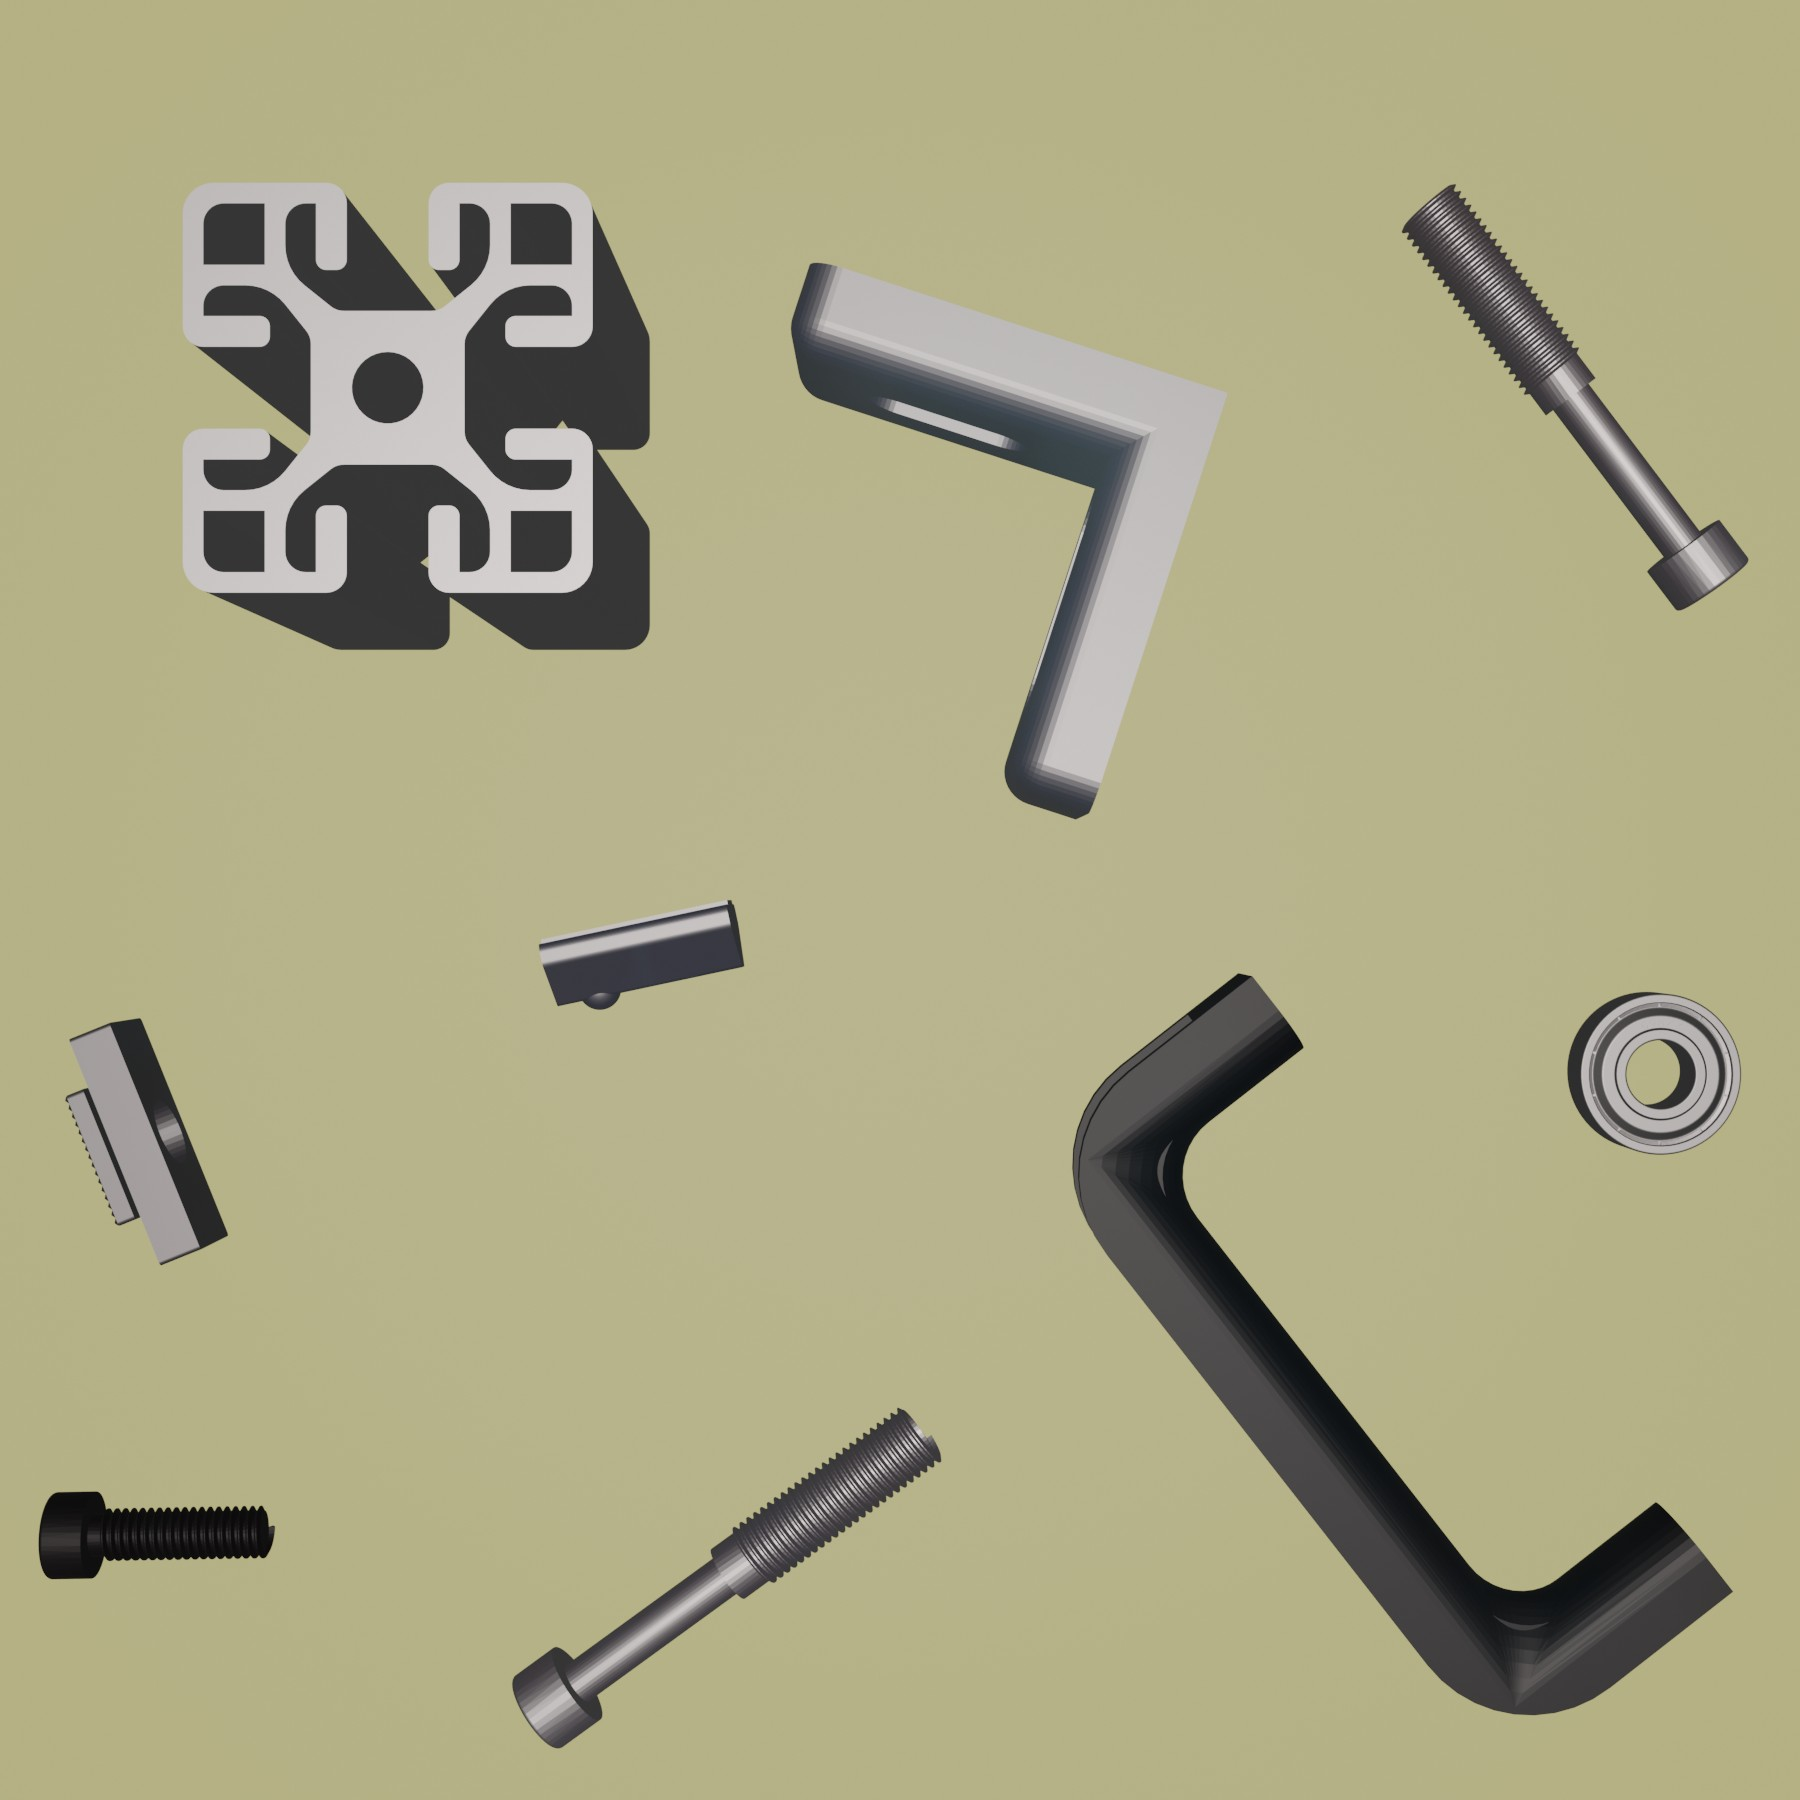Aluminium Extension: (176, 180, 654, 653)
Ball Bearing: (1566, 989, 1742, 1159)
Multiwinkel: (790, 259, 1233, 823)
Pull Handle: (1071, 973, 1736, 1718)
Shoulder Socket Head Cap Screw: (1401, 185, 1751, 615), (511, 1408, 945, 1752)
Socket Head Cap Screw: (38, 1488, 279, 1582)
T Nut Square: (61, 1015, 231, 1269)
T Spring Nut: (536, 895, 748, 1012)
